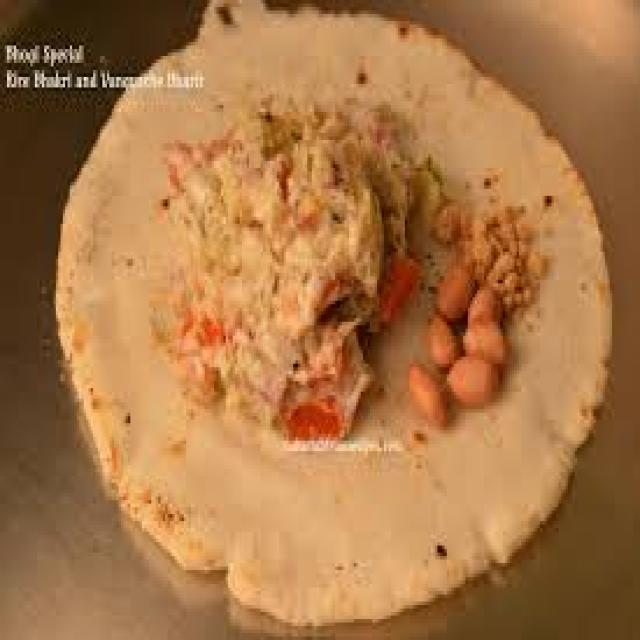RICE BHAKRI: (58, 0, 610, 623)
